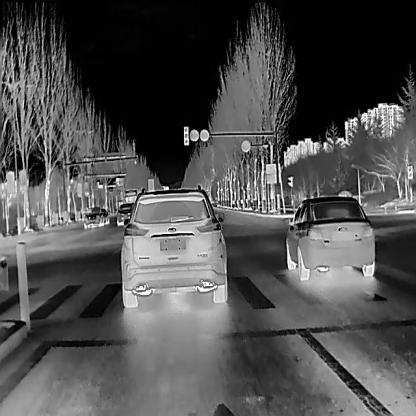car: (120, 183, 226, 307), (284, 194, 374, 280), (82, 204, 102, 227), (115, 201, 134, 225)
